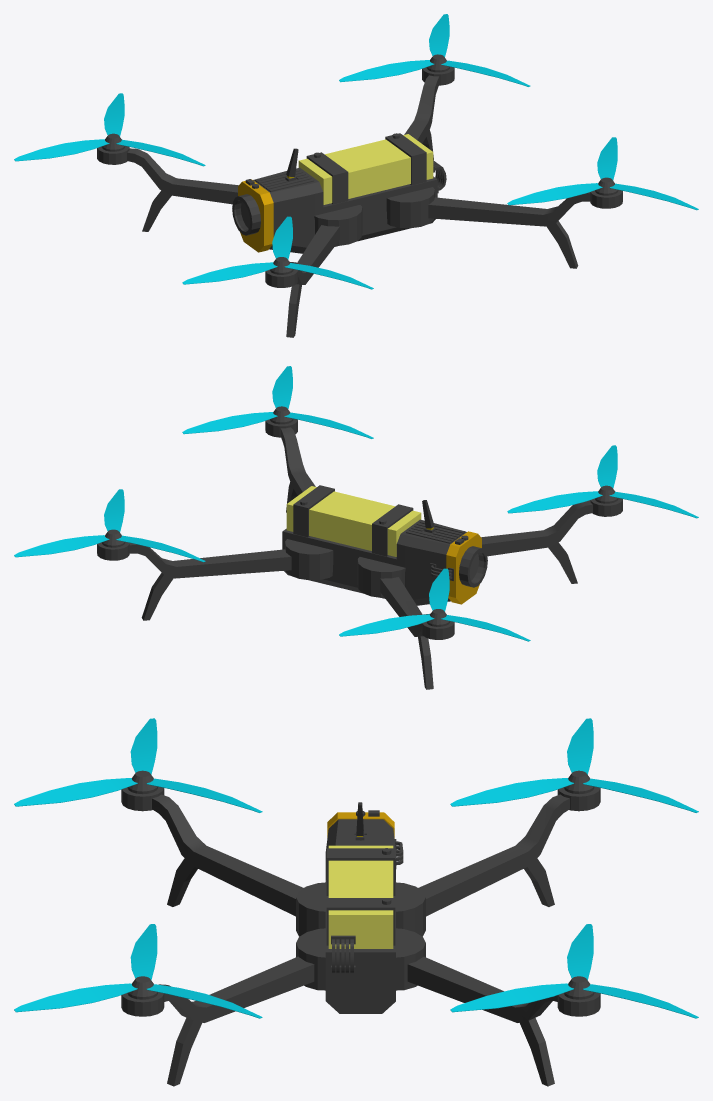
The model's file is drone_B_V1.fbx.
The picture shows the model from 3 angles, top to bottom: view 1: azimuth 30°, elevation 25°; view 2: azimuth 150°, elevation 25°; view 3: azimuth 270°, elevation 25°; orthographic projection. The views are drawn at different scales.
Parts seen in each view (by area): view 1: pCube70, polySurface1, pCube71, pDisc41, pasted__pCube9, pasted__pCube6, pasted__pCube7, pasted__pCube8, pDisc43, pCube79, polySurface4, pasted__pDisc43 (+3 smaller); view 2: pCube70, polySurface1, pCube71, pDisc41, pasted__pCube6, pasted__pCube8, pasted__pCube9, pasted__pCube7, pDisc43, pCube79, polySurface4, pasted__pDisc43 (+3 smaller); view 3: pCube70, polySurface1, pDisc41, pCube71, pCube79, pasted__pCube8, pasted__pCube7, pasted__pCube6, pasted__pCube9, pDisc43, pasted__pDisc43, pCube72 (+1 smaller).
Part boxes in pixels (x1,y1,x2,y2): pCube70: [127, 75, 590, 284]; polySurface1: [253, 167, 437, 253]; pCube71: [298, 134, 433, 204]; pDisc41: [314, 187, 434, 245]; pasted__pCube9: [182, 216, 373, 289]; pasted__pCube6: [14, 93, 205, 166]; pasted__pCube7: [339, 14, 530, 86]; pasted__pCube8: [507, 137, 698, 210]; pDisc43: [97, 67, 622, 287]; pCube79: [142, 130, 578, 337]; polySurface4: [238, 179, 273, 252]; pasted__pDisc43: [101, 54, 618, 274]; pCube70: [129, 427, 592, 636]; polySurface1: [282, 519, 466, 605]; pCube71: [286, 486, 421, 556]; pDisc41: [285, 539, 405, 597]; pasted__pCube6: [339, 568, 530, 641]; pasted__pCube8: [182, 366, 373, 438]; pasted__pCube9: [507, 445, 698, 518]; pasted__pCube7: [14, 489, 205, 562]; pDisc43: [97, 419, 622, 639]; pCube79: [141, 482, 577, 689]; polySurface4: [446, 531, 481, 604]; pasted__pDisc43: [101, 406, 618, 626]; pCube70: [152, 794, 569, 1022]; polySurface1: [325, 819, 395, 1013]; pDisc41: [296, 882, 425, 990]; pCube71: [328, 845, 393, 948]; pCube79: [167, 858, 554, 1086]; pasted__pCube8: [14, 924, 262, 1018]; pasted__pCube7: [450, 924, 698, 1018]; pasted__pCube6: [450, 718, 698, 812]; pasted__pCube9: [14, 718, 262, 812]; pDisc43: [121, 786, 600, 1016]; pasted__pDisc43: [127, 770, 594, 999]; pCube72: [326, 898, 395, 945].
Size of the model in its own units: 9.75 by 2.28 by 9.41.
